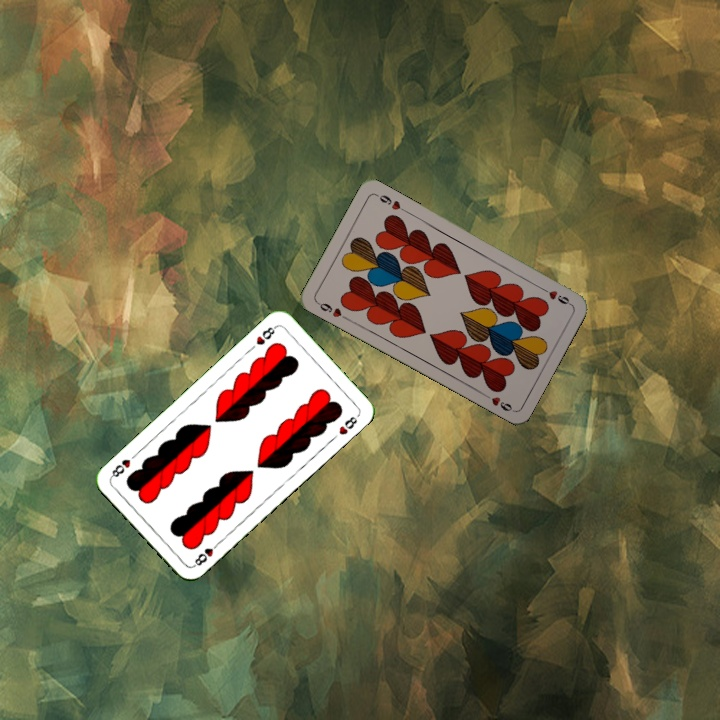H8: (189, 538, 222, 570), (252, 321, 280, 347)
H9: (313, 297, 350, 322), (536, 283, 574, 307)
